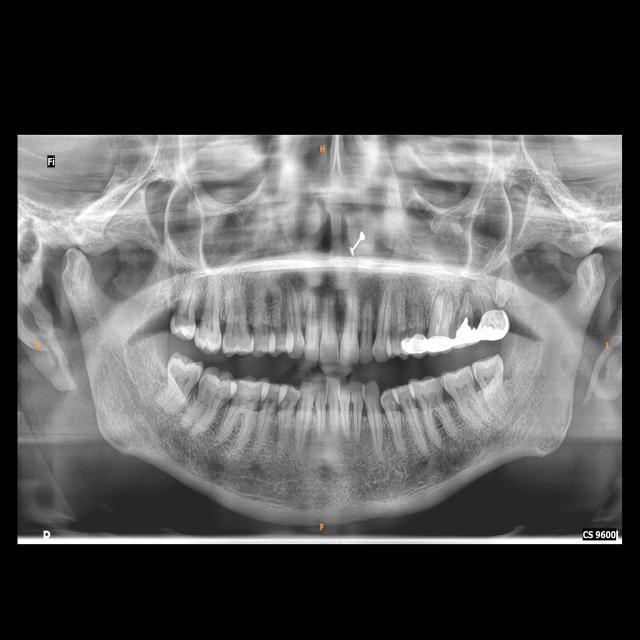kaplama: (478, 309, 512, 340), (451, 314, 479, 347), (398, 330, 430, 354), (427, 331, 453, 353)
